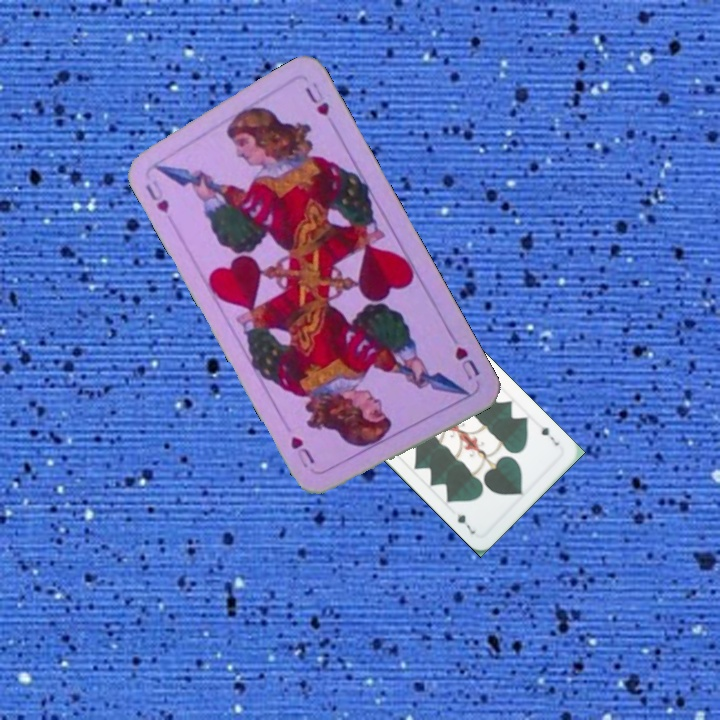G7: (537, 423, 562, 448)
HU: (141, 172, 172, 216), (450, 342, 483, 383)
